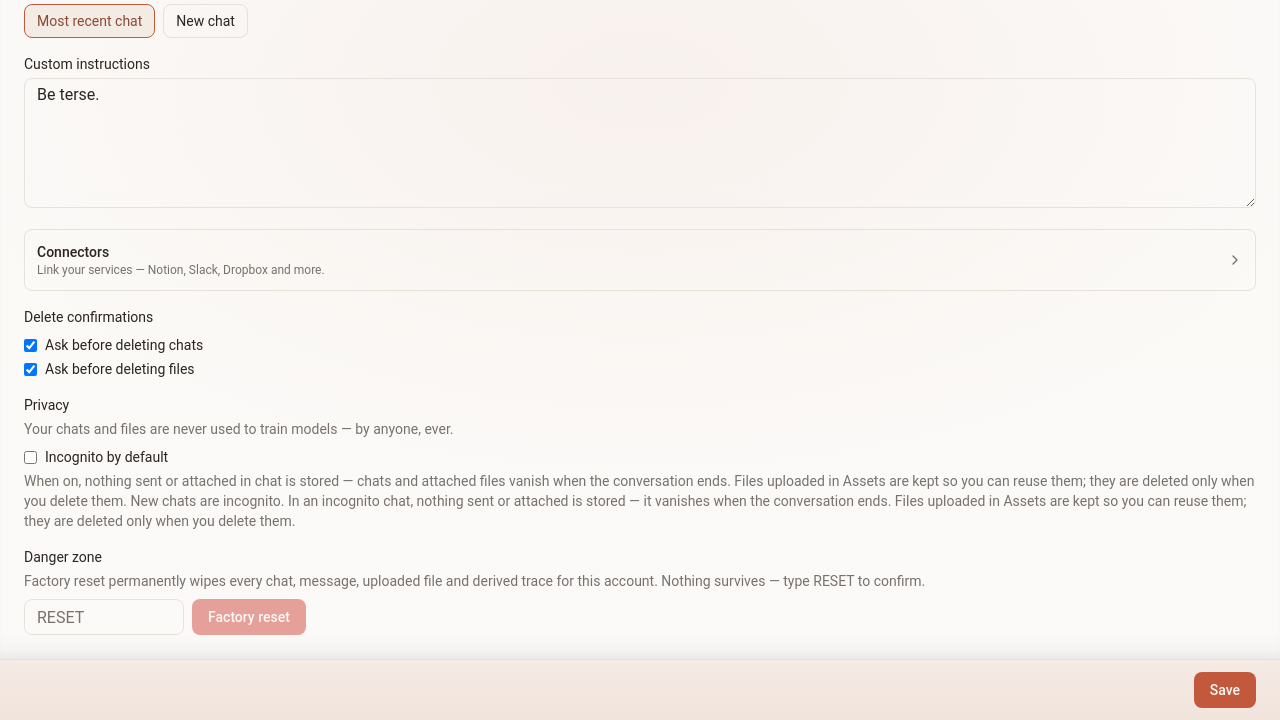
Test: ProfileView factory reset (issue #143) › keeps the destructive button disabled until the exact confirm string is typed
This screenshot has width=1280, height=720.
(page scrolled)
expect the button with test id "profile-factory-reset" is disabled: met, box [192,599,306,635]
Type "reset" into the field with test id "profile-reset-confirm". click: (104, 617)
box: [24,599,184,635]
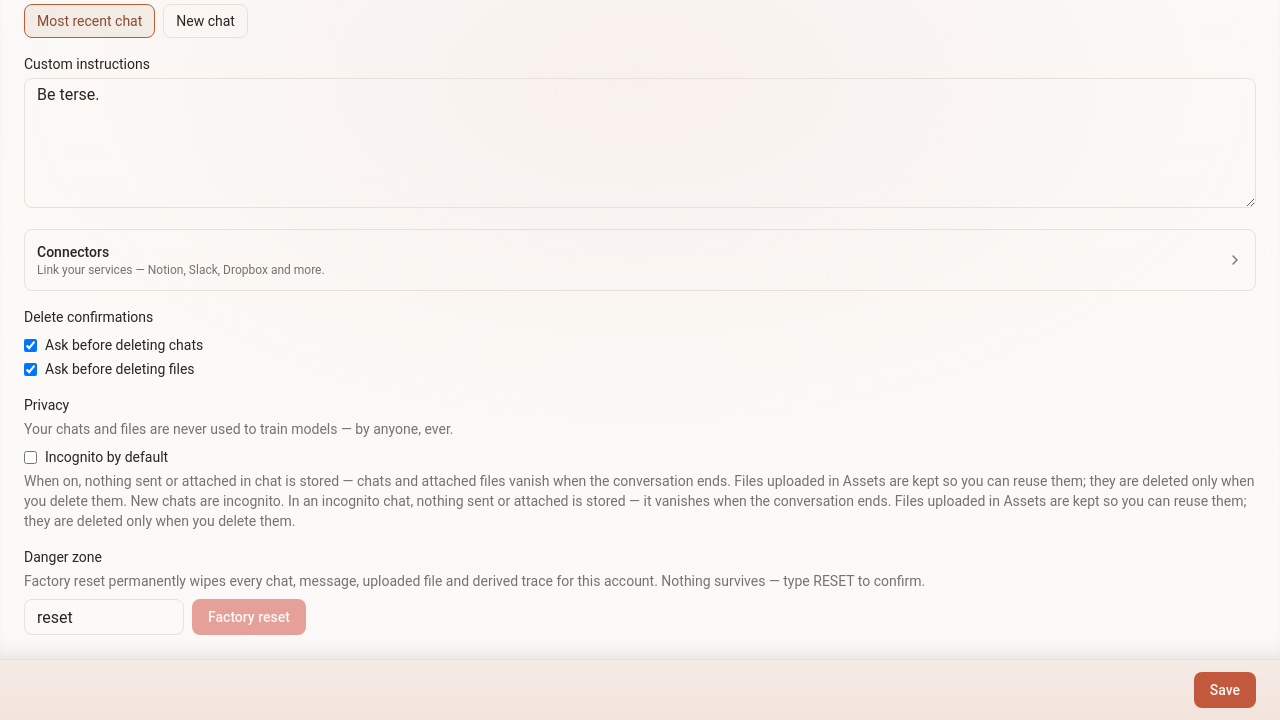
expect the button with test id "profile-factory-reset" is disabled: met, box [192,599,306,635]
Replace the text in the field with test id "profile-reset-confirm" with "RESET". click: (104, 617)
box: [24,599,184,635]
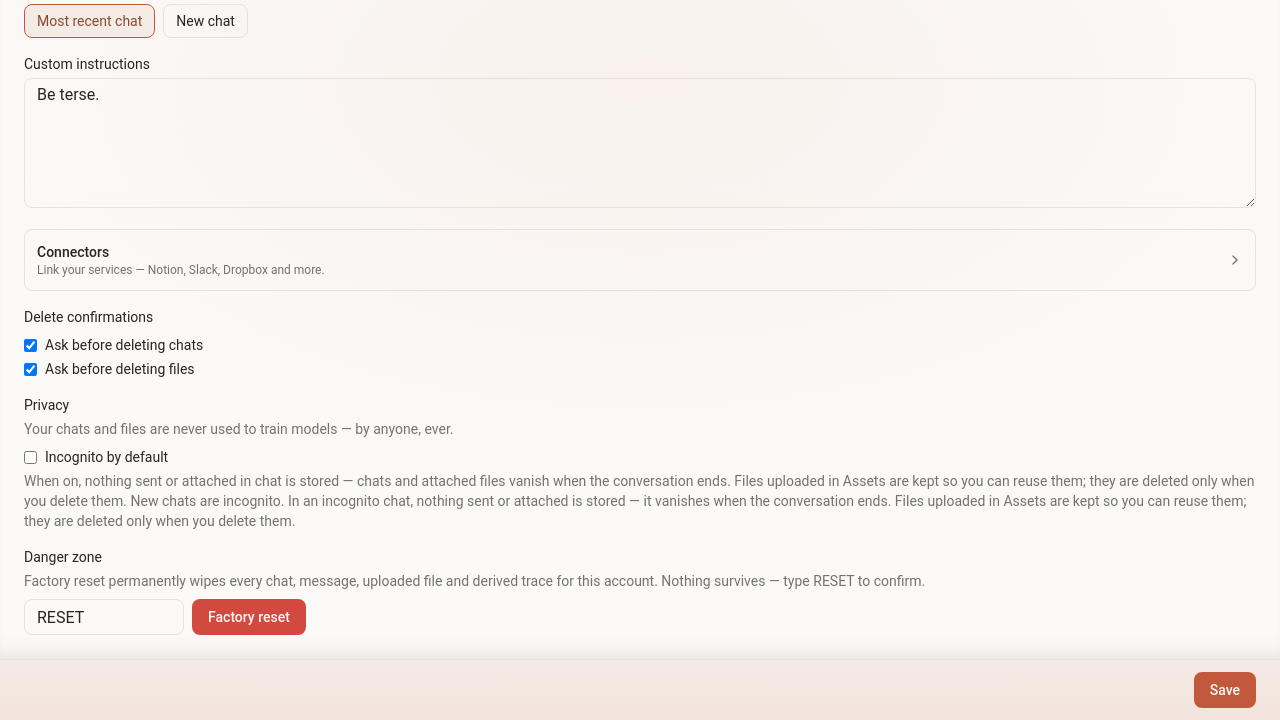
expect the button with test id "profile-factory-reset" is enabled: met, box [192,599,306,635]
